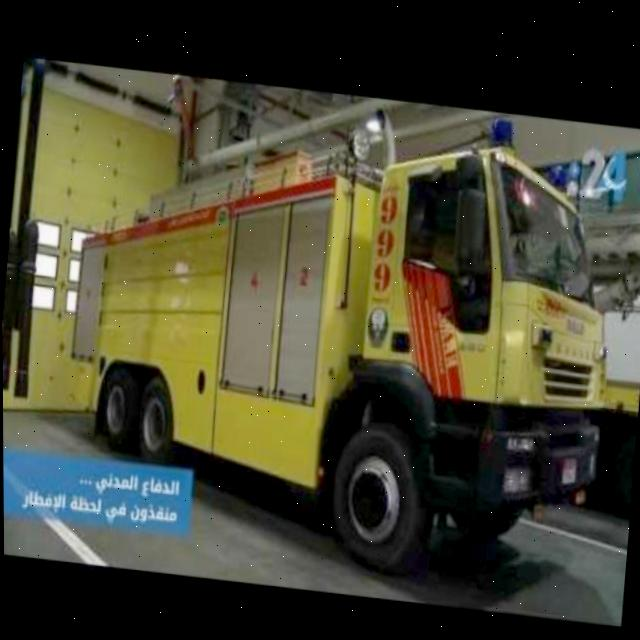emergency: (42, 62, 636, 597)
